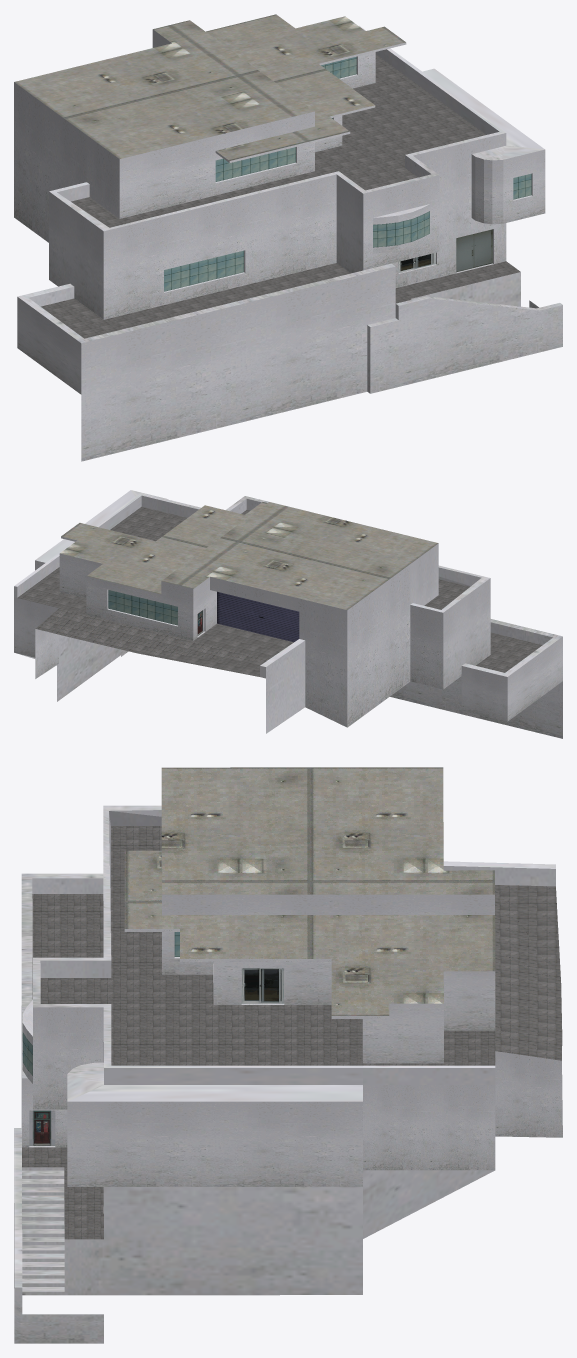
File: tcehilouse02.obj
3 views of the same model, one above another, from view 1: azimuth 30°, elevation 25°; view 2: azimuth 150°, elevation 25°; view 3: azimuth 270°, elevation 25° (orthographic). The views are drawn at different scales.
Visible parts, largest first — view 1: TCEhilouse02; view 2: TCEhilouse02; view 3: TCEhilouse02.
Part boxes in pixels (box(x1,y1,x2,y2)): TCEhilouse02: box(14, 14, 562, 461); TCEhilouse02: box(14, 490, 562, 738); TCEhilouse02: box(14, 767, 562, 1343).
Bounding box in the file's own units: 44.02 × 21.16 × 32.58.
